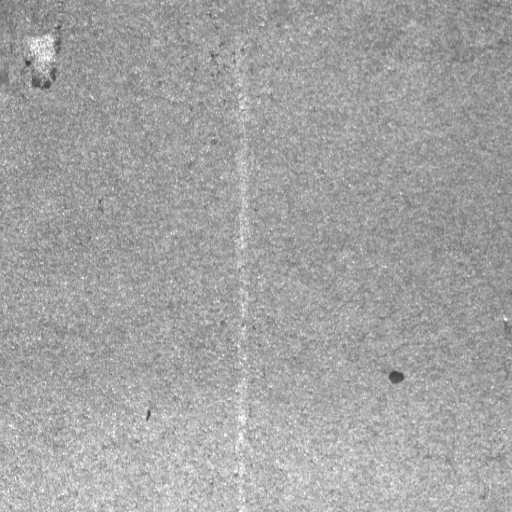aokeng: (19, 22, 69, 92)
